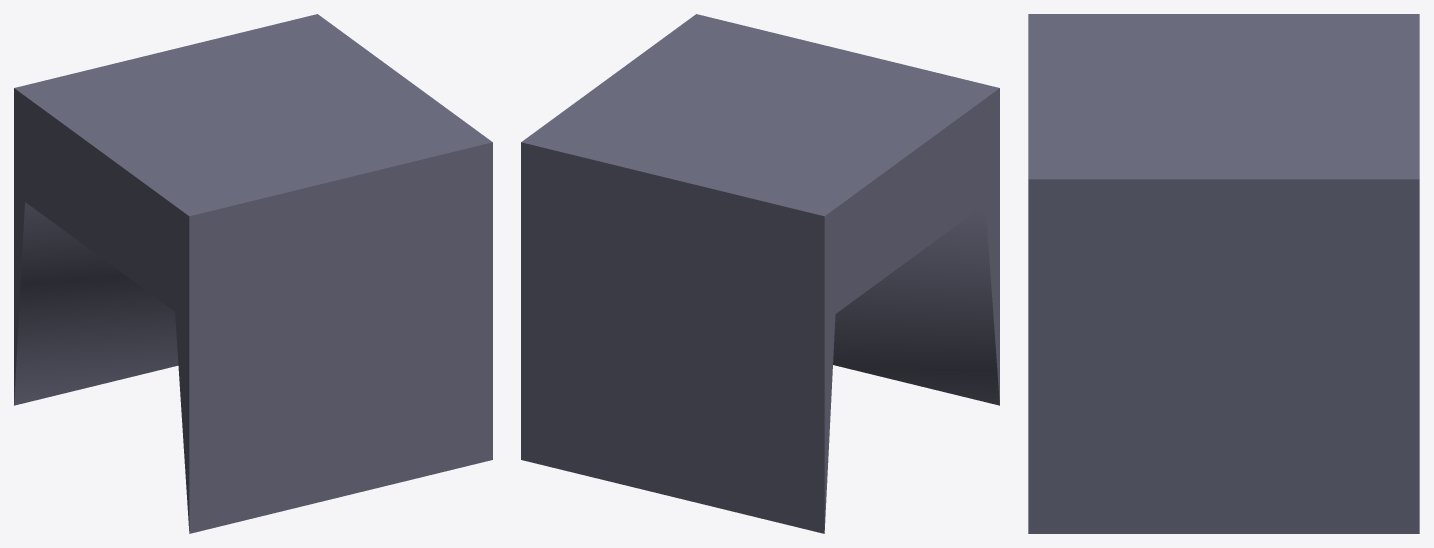
File: puertaGaraje.obj
3 views of the same model, side by side, from view 1: azimuth 30°, elevation 25°; view 2: azimuth 150°, elevation 25°; view 3: azimuth 270°, elevation 25° (orthographic). The views are drawn at different scales.
Visible parts, largest first — view 1: pCube11.001_lambert36; view 2: pCube11.001_lambert36; view 3: pCube11.001_lambert36.
Boxes of the visible parts, <box> form: pCube11.001_lambert36: <box>14,14,492,533</box>; pCube11.001_lambert36: <box>521,14,999,533</box>; pCube11.001_lambert36: <box>1028,14,1419,533</box>.
Bounding box in the file's own units: 1 × 1 × 1.
